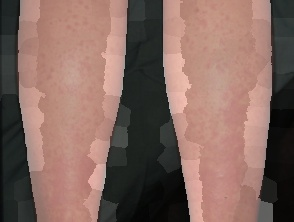SJS-TEN: (172, 0, 283, 222), (29, 0, 133, 222)
